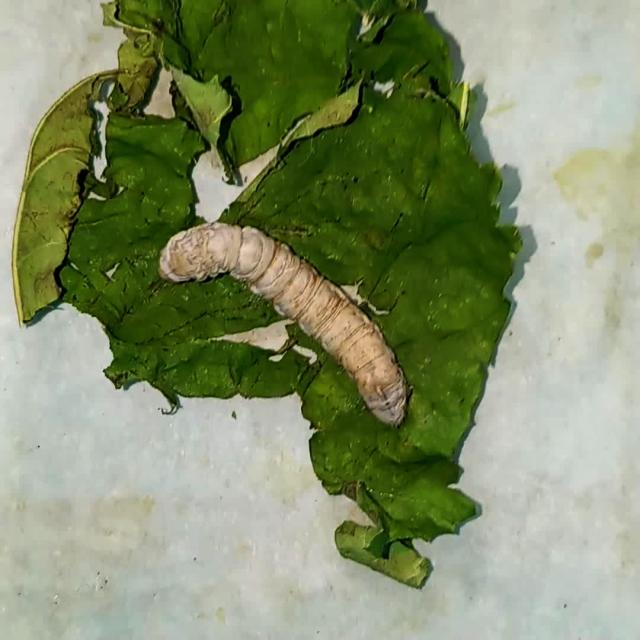Grasserie: (148, 189, 446, 444)
